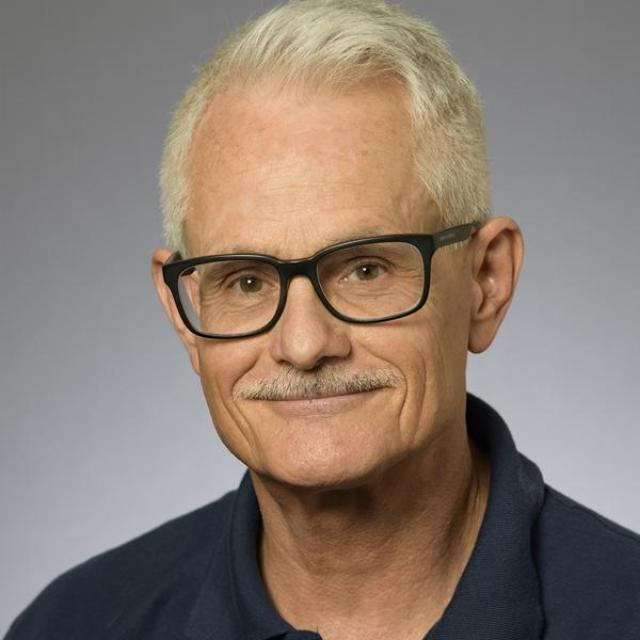crows_feet: (389, 260, 421, 292), (200, 282, 228, 312)
gummy_smile: (229, 352, 259, 386), (368, 342, 402, 372)
masseter: (412, 349, 436, 407)
sad_smile: (228, 402, 256, 442), (390, 384, 414, 424)
